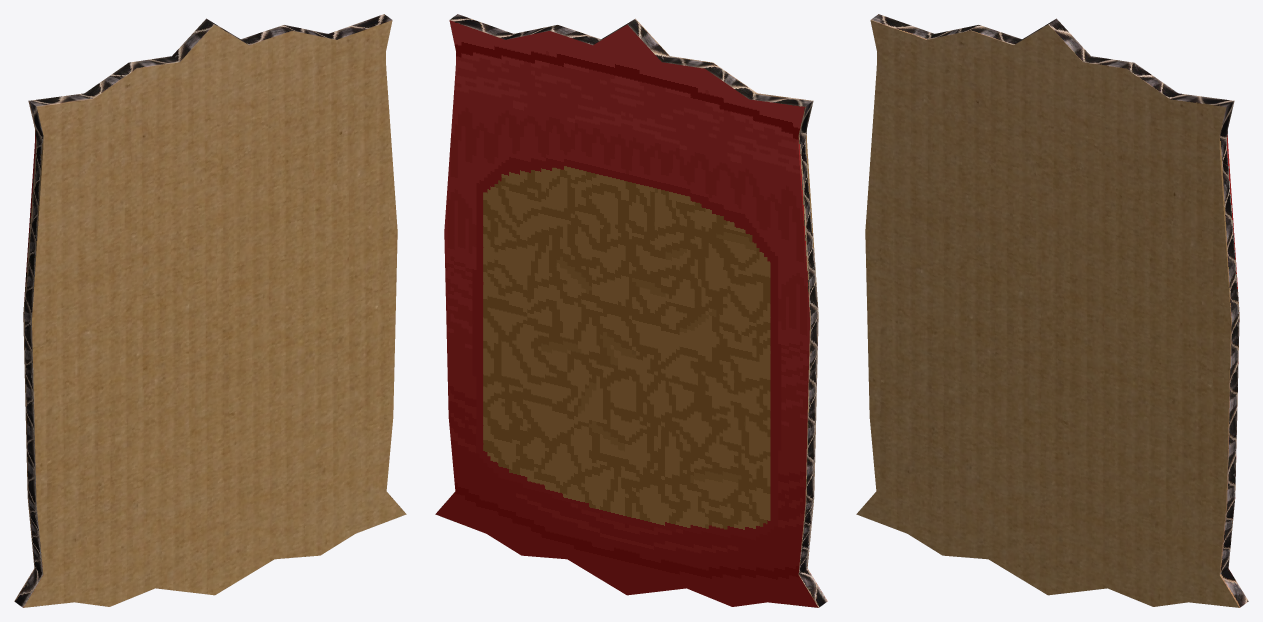
File: FIDEOS MOÑITO.glb
3 views of the same model, side by side, from view 1: azimuth 30°, elevation 25°; view 2: azimuth 150°, elevation 25°; view 3: azimuth 330°, elevation 25° (orthographic).
Visible parts, largest first — view 1: FIDEOS MOÑITO; view 2: FIDEOS MOÑITO; view 3: FIDEOS MOÑITO.
Part boxes in pixels (<box>): FIDEOS MOÑITO: <box>14,14,406,607</box>; FIDEOS MOÑITO: <box>435,14,827,607</box>; FIDEOS MOÑITO: <box>856,14,1248,607</box>.
Bounding box in the file's own units: 3.11 × 4.41 × 0.1278.
1 material, 1 textured.
